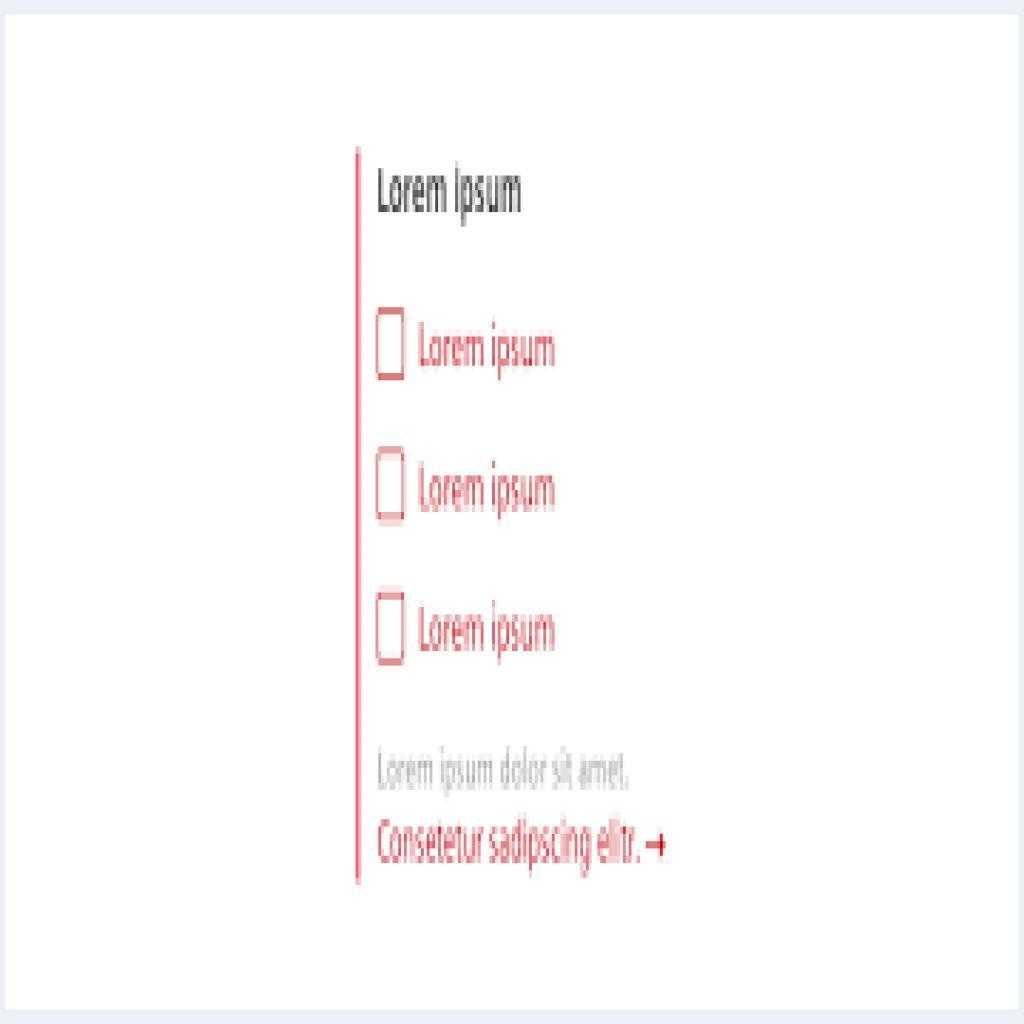checkbox: (374, 445, 410, 529), (373, 306, 409, 382), (376, 593, 407, 662)
